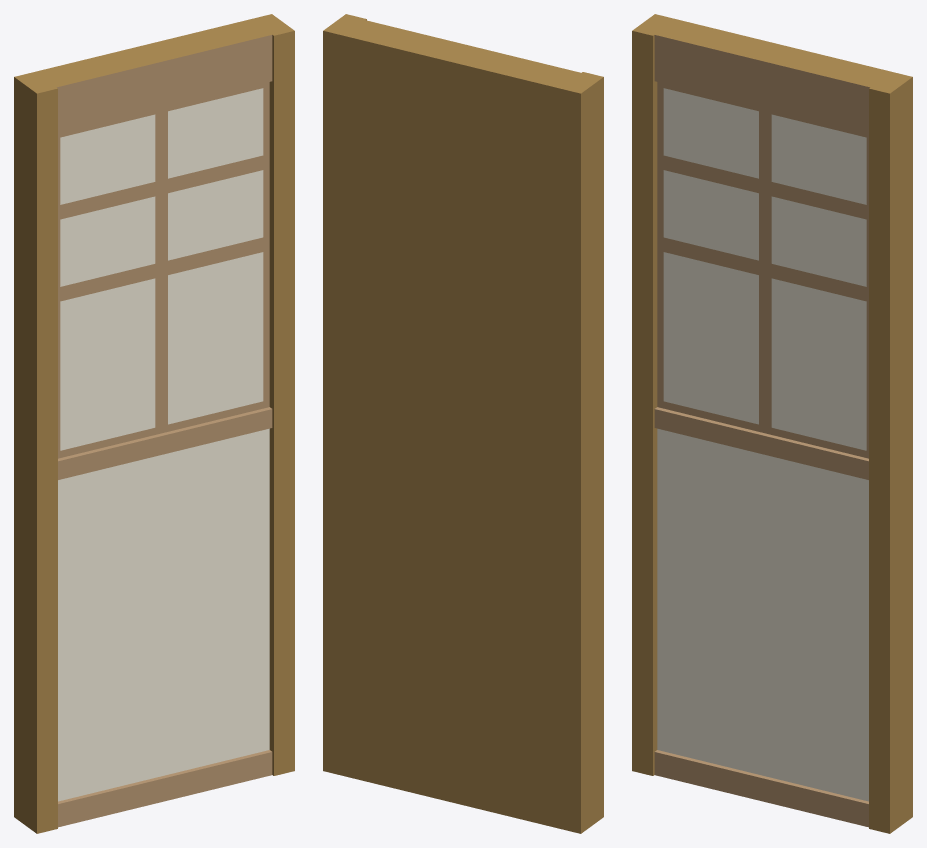
Rendered from Wall_8.fbx.
3 renders of one model, left to right at view 1: azimuth 30°, elevation 25°; view 2: azimuth 150°, elevation 25°; view 3: azimuth 330°, elevation 25°, orthographic.
Visible parts, largest first — view 1: Asian_Prop_Building_Modular_Wall_Rural_Door_Screen_02, Asian_Prop_Building_Modular_Wall_Rural_Door_Screen_02.001, Asian_Prop_Building_Modular_Wall_Rural_Door_Screen_02.002; view 2: Asian_Prop_Building_Modular_Wall_Rural_Door_Screen_02.001; view 3: Asian_Prop_Building_Modular_Wall_Rural_Door_Screen_02, Asian_Prop_Building_Modular_Wall_Rural_Door_Screen_02.001, Asian_Prop_Building_Modular_Wall_Rural_Door_Screen_02.002.
Part boxes in pixels (left/top/right/bottom): Asian_Prop_Building_Modular_Wall_Rural_Door_Screen_02: left=58, top=88, right=269, bottom=801; Asian_Prop_Building_Modular_Wall_Rural_Door_Screen_02.001: left=14, top=14, right=294, bottom=833; Asian_Prop_Building_Modular_Wall_Rural_Door_Screen_02.002: left=57, top=35, right=272, bottom=827; Asian_Prop_Building_Modular_Wall_Rural_Door_Screen_02.001: left=323, top=14, right=603, bottom=833; Asian_Prop_Building_Modular_Wall_Rural_Door_Screen_02: left=657, top=88, right=868, bottom=801; Asian_Prop_Building_Modular_Wall_Rural_Door_Screen_02.001: left=632, top=14, right=912, bottom=833; Asian_Prop_Building_Modular_Wall_Rural_Door_Screen_02.002: left=654, top=35, right=869, bottom=827.
Size of the model in its own units: 121 by 333 by 18.64.
